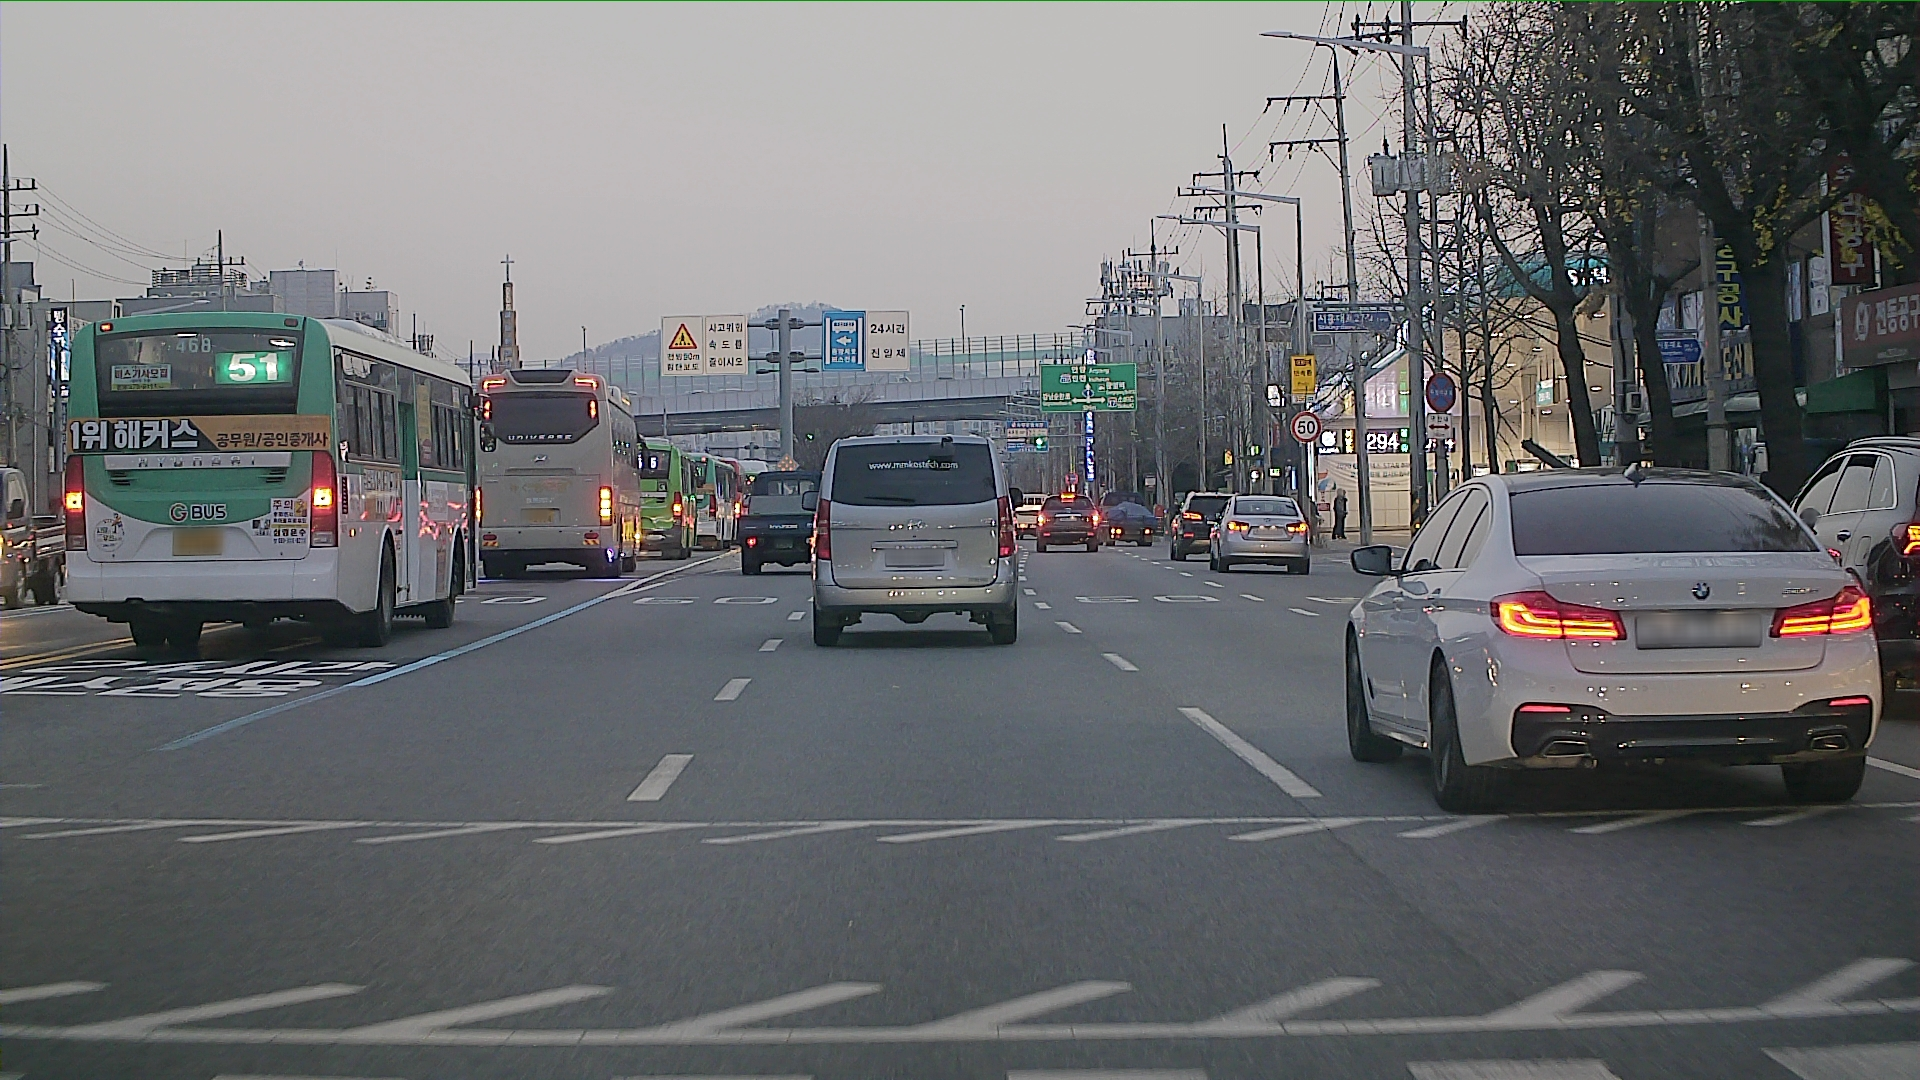trafficSignCircle: (1425, 377, 1457, 409), (1290, 415, 1319, 442)
